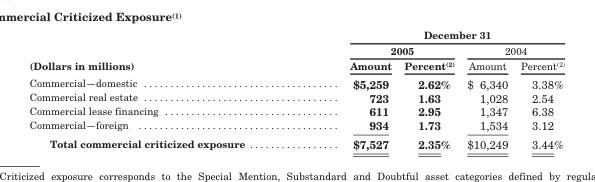table: (28, 28, 563, 150)
table column: (28, 28, 296, 150), (296, 28, 397, 150), (397, 28, 460, 150), (460, 28, 513, 150), (513, 28, 563, 150)
table column header: (28, 28, 563, 73)
table row: (28, 73, 563, 90), (28, 57, 563, 73), (28, 118, 563, 134), (28, 134, 563, 150), (28, 42, 563, 57), (28, 28, 563, 42), (28, 90, 563, 104), (28, 104, 563, 118)
table spanning cell: (28, 28, 296, 73), (296, 28, 563, 42), (296, 42, 460, 57), (460, 42, 563, 57)
